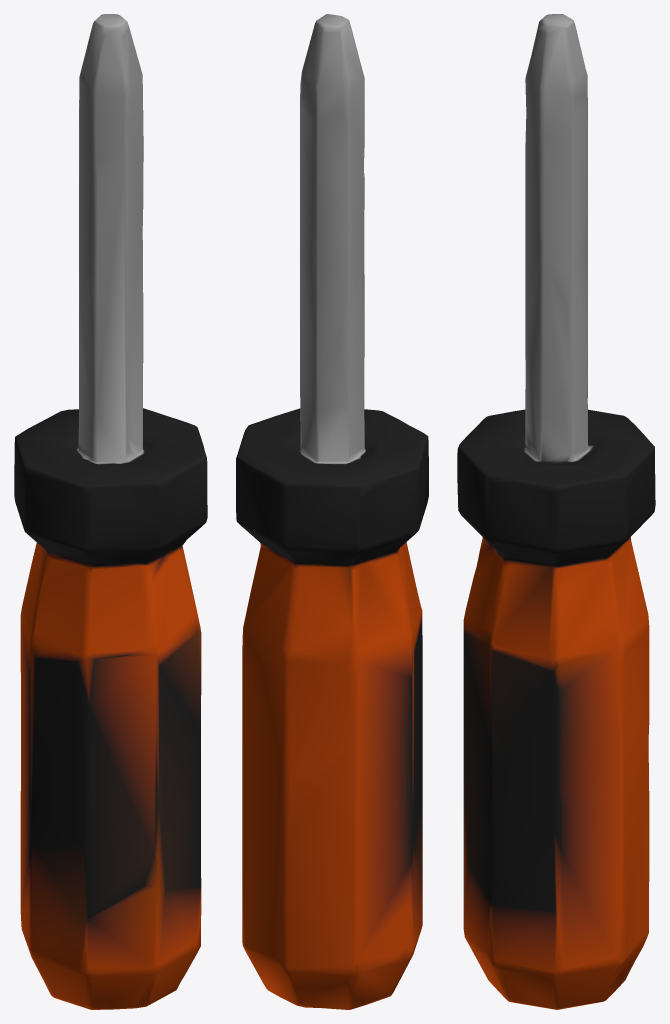
The model's file is gen3d-screwdriver-lod1.glb.
3 renders of one model, left to right at view 1: azimuth 30°, elevation 25°; view 2: azimuth 150°, elevation 25°; view 3: azimuth 270°, elevation 25°, orthographic.
Parts seen in each view (by area): view 1: part_0; view 2: part_0; view 3: part_0.
Boxes of the visible parts, x1,y1,x2,y2 form: part_0: (14, 14, 207, 1009); part_0: (236, 14, 428, 1009); part_0: (457, 14, 655, 1009).
Bounding box in the file's own units: 0.1863 × 1 × 0.1864.
